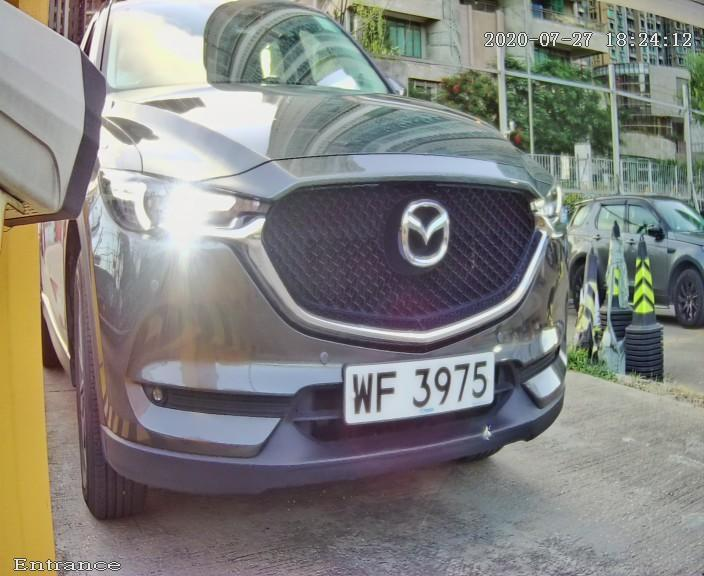privatecar: (51, 13, 591, 512)
